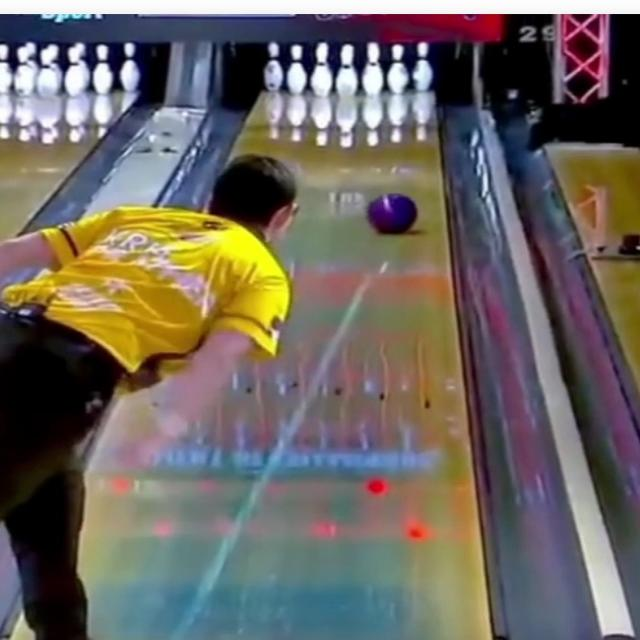alley: (81, 94, 488, 639)
balls: (368, 194, 417, 233)
bottle: (263, 42, 434, 98)
